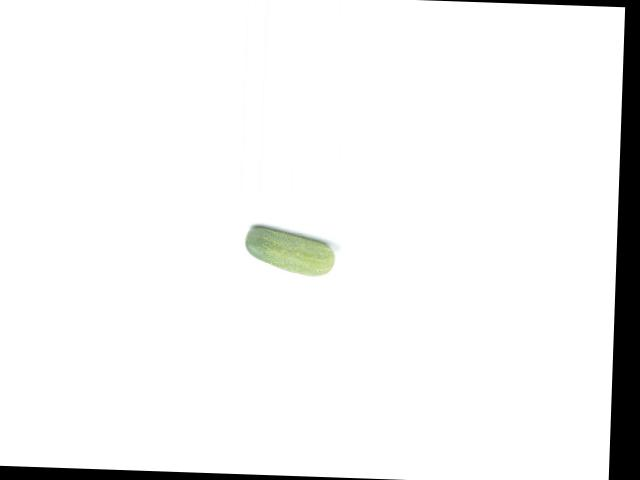cucumber: (244, 225, 335, 276)
